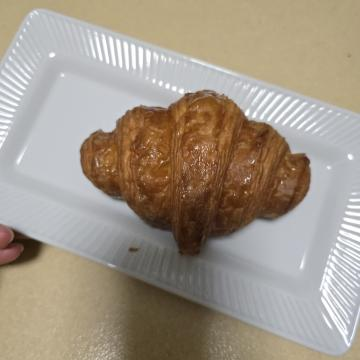croissant: (78, 38, 271, 290)
